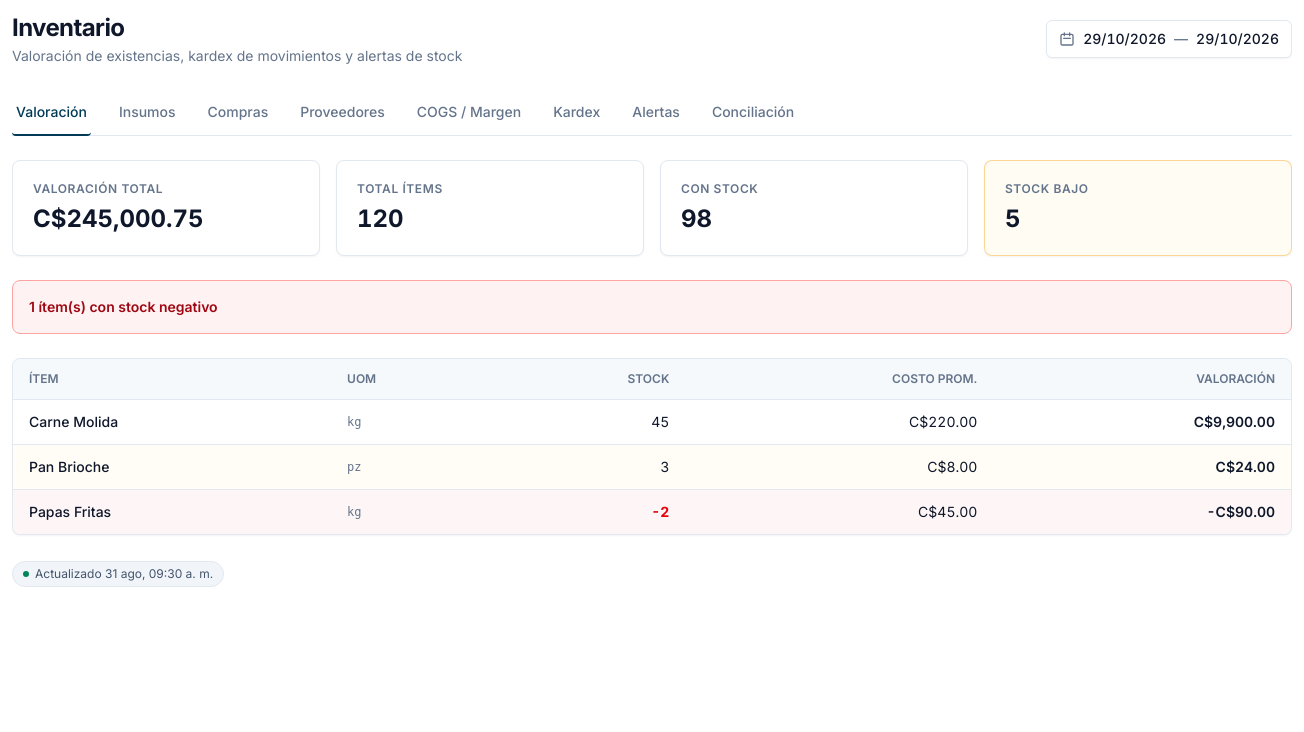
Test: W3 — InventoryPage › switches to COGS tab
The width and height of the screenshot is (1304, 732).
What coordinates should you click on to do the following:
click the tab "COGS / Margen"
I would click on:
 (469, 113)
Its box is [413,90,525,136].
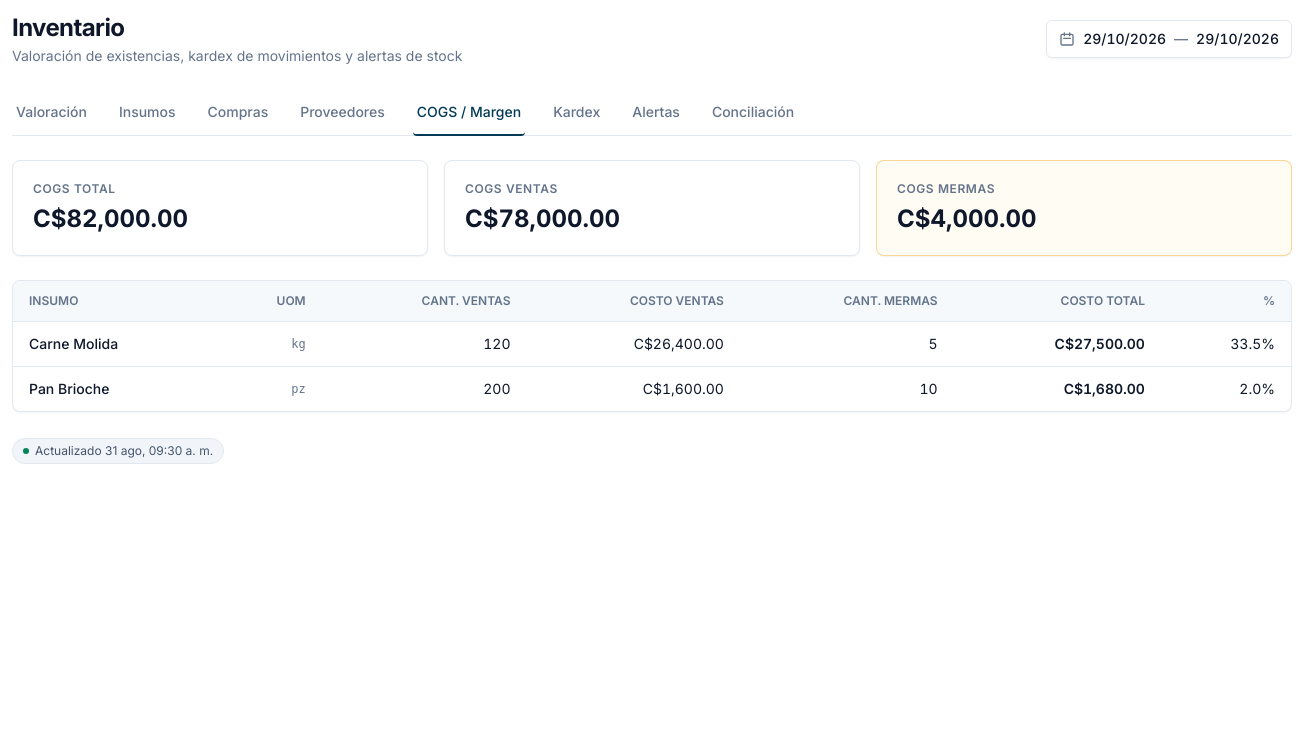
Now the text "COGS Total" is shown, box [33,181,116,196]
Now the text "COGS Ventas" is shown, box [465,181,558,196]
Now the text "COGS Mermas" is shown, box [897,181,995,196]
